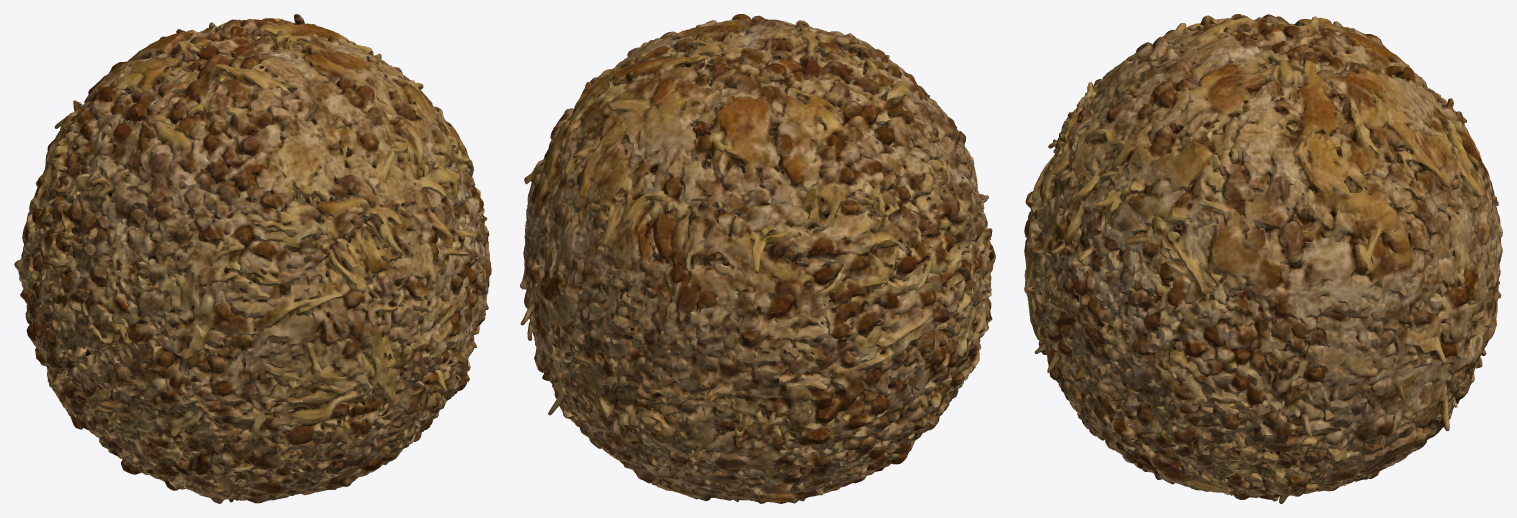
The model's file is 08_jiupei.glb.
3 renders of one model, left to right at view 1: azimuth 30°, elevation 25°; view 2: azimuth 150°, elevation 25°; view 3: azimuth 270°, elevation 25°, orthographic.
Parts seen in each view (by area): view 1: geometry_0; view 2: geometry_0; view 3: geometry_0.
Boxes of the visible parts, <box> form: geometry_0: <box>14,14,491,503</box>; geometry_0: <box>520,14,995,503</box>; geometry_0: <box>1024,14,1502,503</box>.
Size of the model in its own units: 0.12 by 0.1203 by 0.1201.
1 material, 1 textured.
